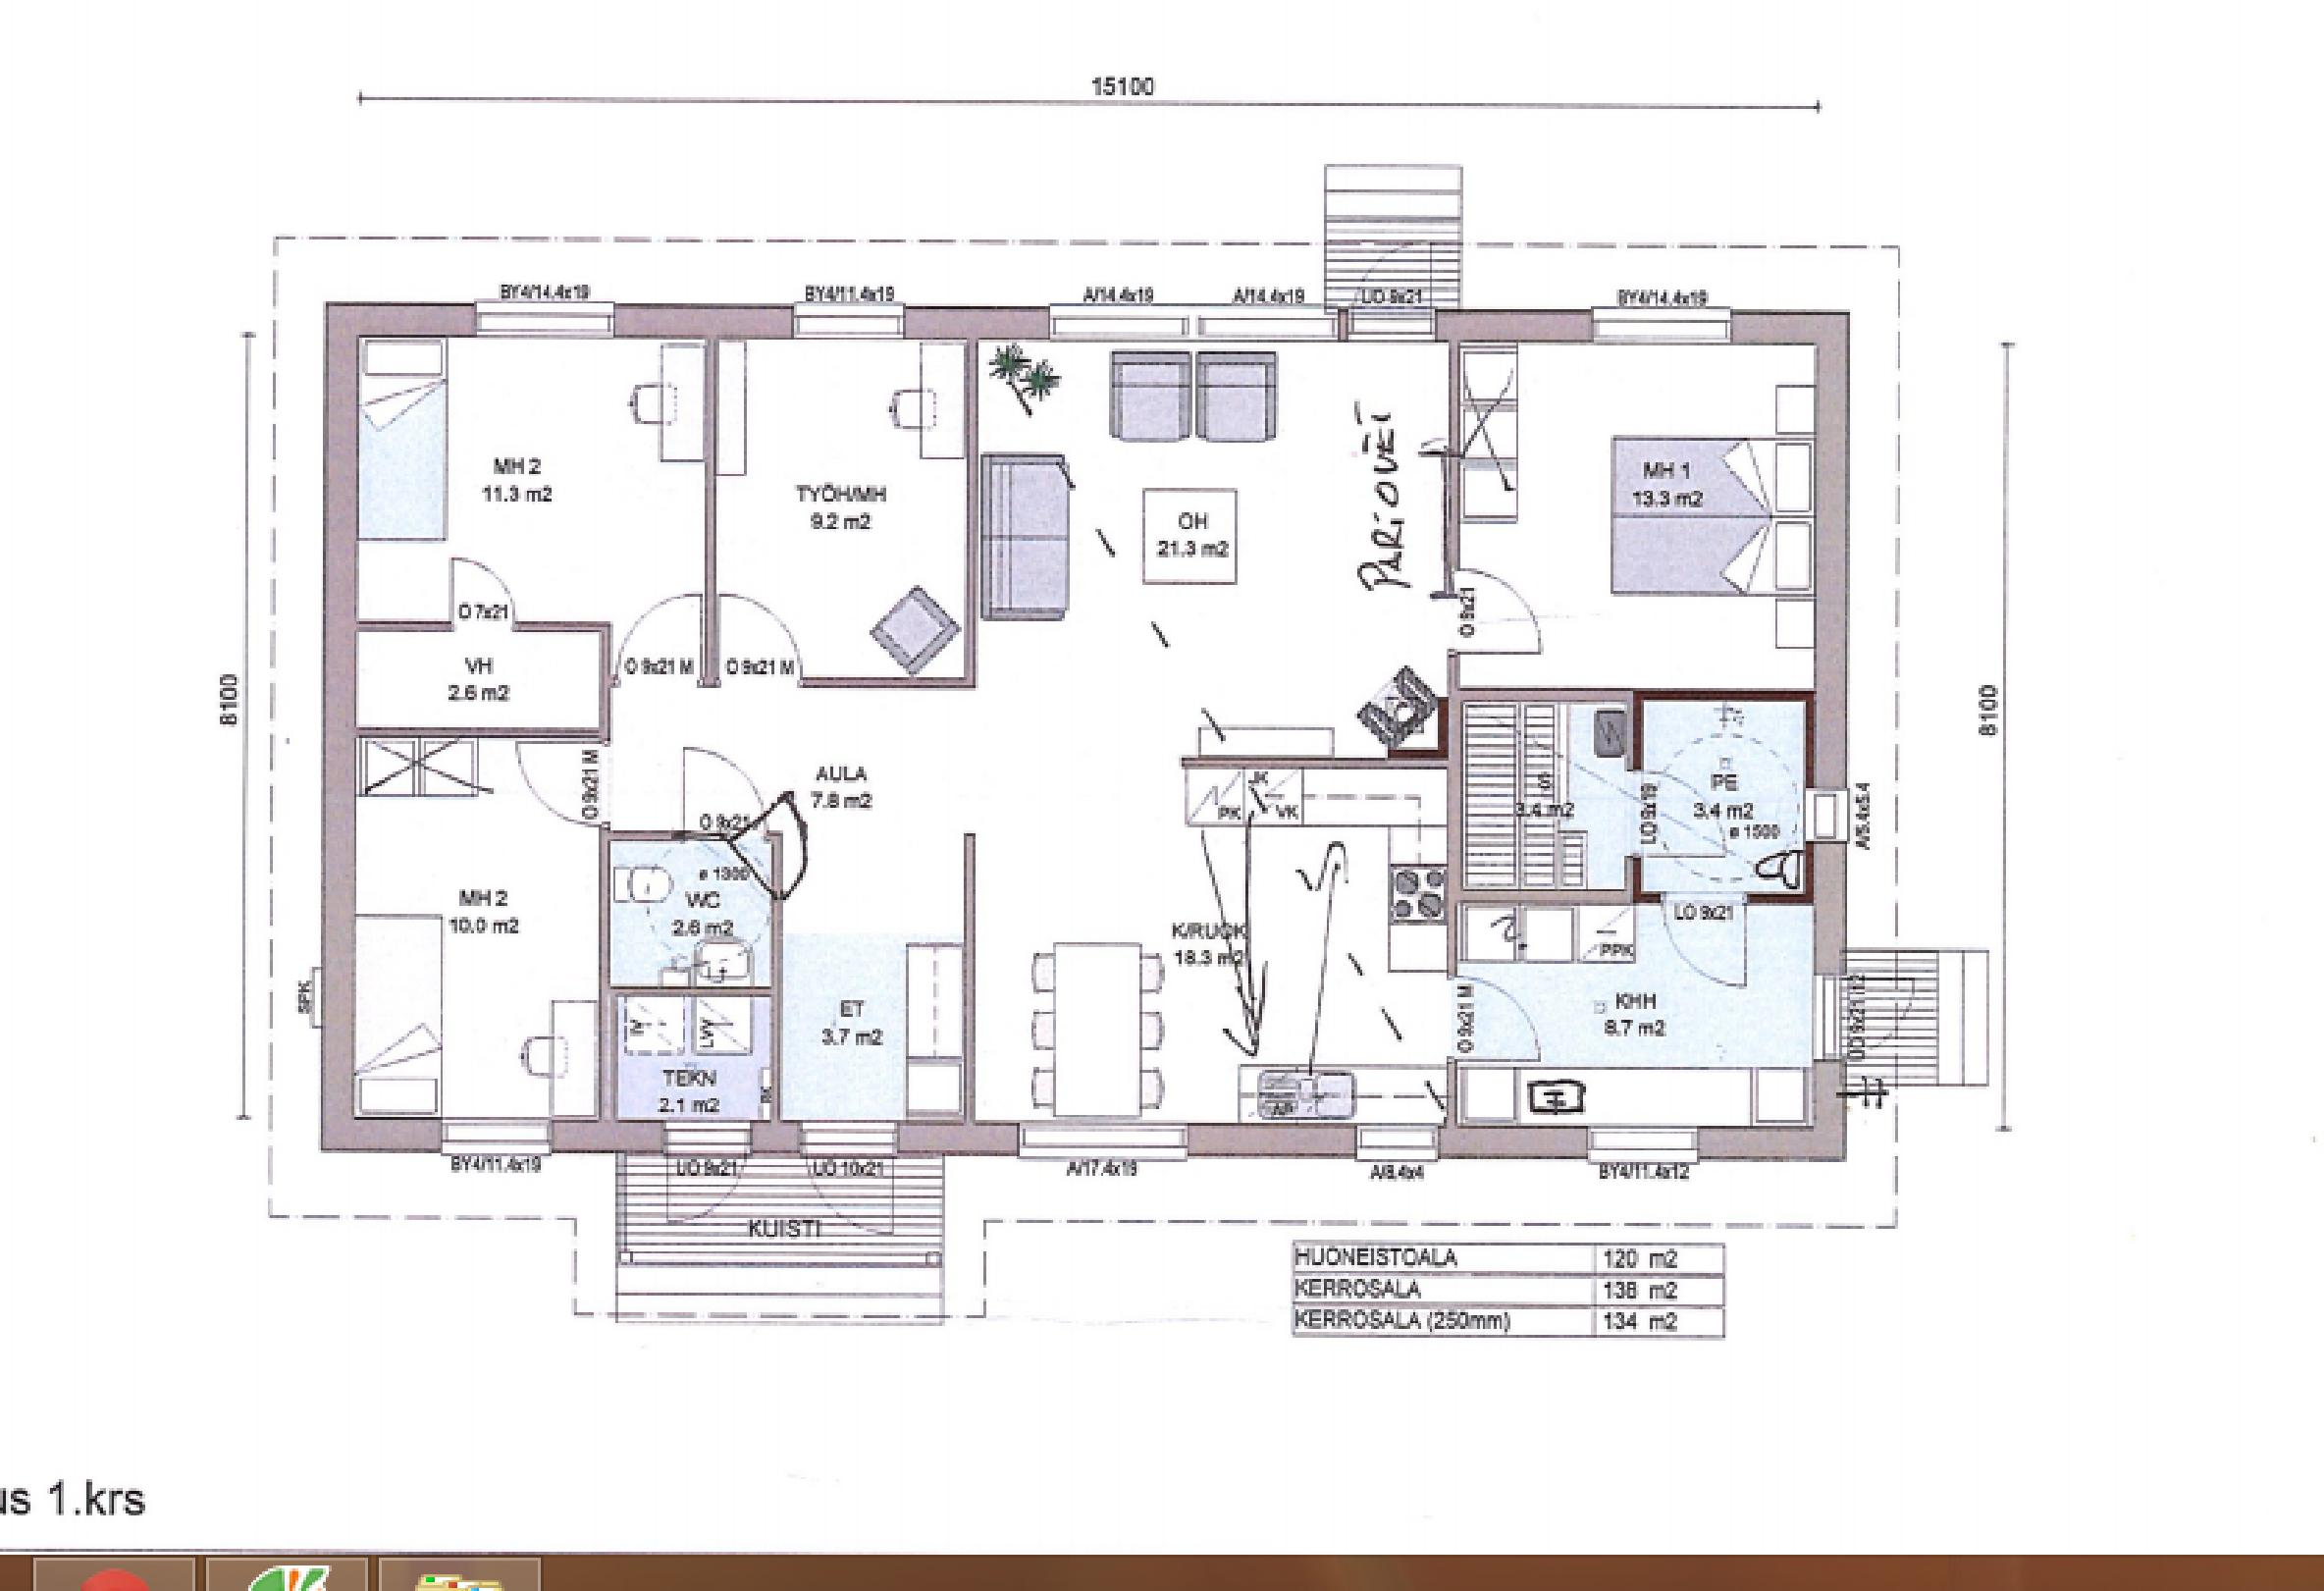door: (673, 745, 819, 897), (613, 592, 807, 689), (800, 1114, 901, 1247), (1434, 973, 1556, 1065), (1660, 890, 1757, 996), (507, 735, 611, 832), (1623, 770, 1731, 863), (1445, 572, 1545, 666), (659, 1125, 751, 1224), (1810, 976, 1913, 1063), (440, 551, 521, 629)
window: (1051, 309, 1332, 346), (1015, 1118, 1187, 1162), (472, 304, 611, 339), (1581, 311, 1734, 341), (1591, 1125, 1690, 1165), (436, 1121, 549, 1155), (1346, 1128, 1432, 1165), (789, 309, 901, 332), (1351, 309, 1425, 339)
zone: (978, 339, 1443, 1114), (987, 766, 1443, 1132), (609, 680, 970, 1112), (364, 336, 703, 722), (1464, 346, 1808, 690), (364, 740, 604, 1109), (719, 339, 964, 680), (1460, 899, 1807, 1132), (616, 1155, 938, 1264), (1635, 701, 1798, 888), (1468, 713, 1634, 886), (613, 841, 765, 991), (358, 639, 592, 729), (618, 999, 768, 1109)
